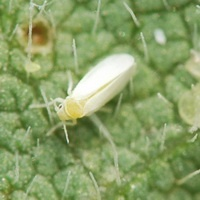insect: (48, 54, 135, 121)
